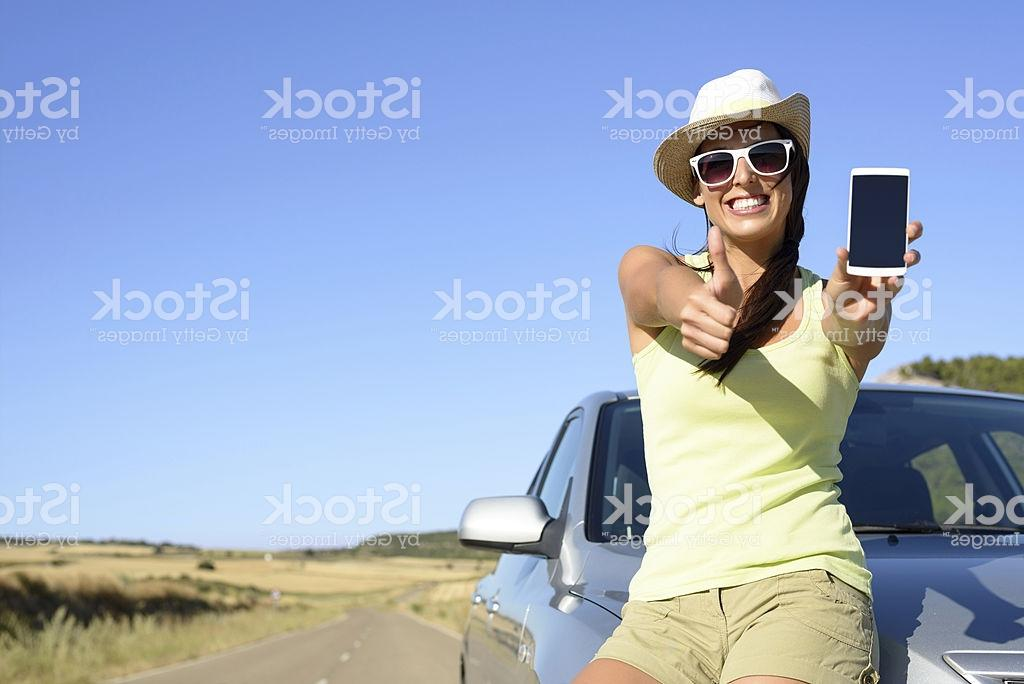thumbsup: (678, 225, 745, 362)
